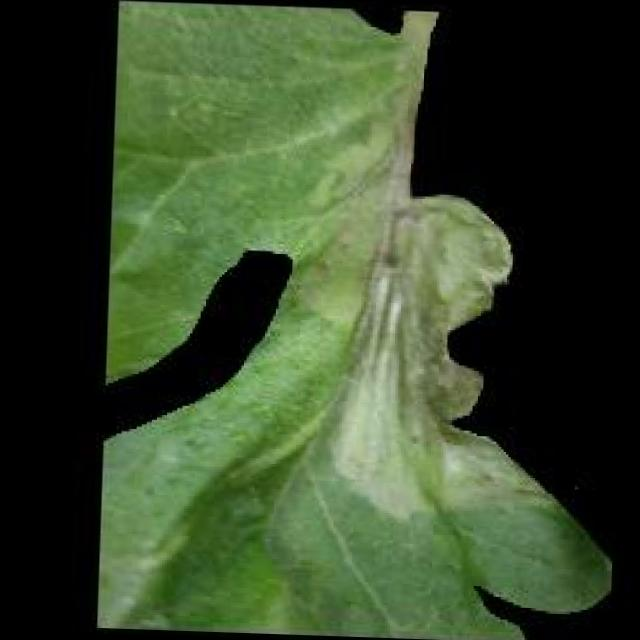Tomato_Late_Blight: (304, 110, 562, 508)
